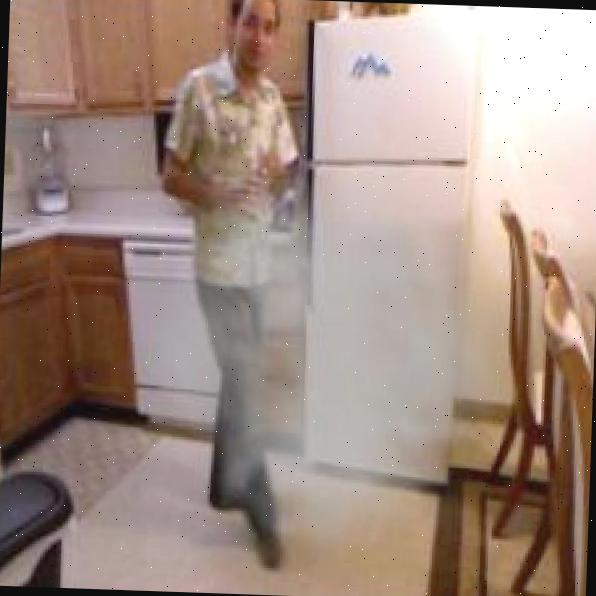smoke: (106, 173, 536, 595)
